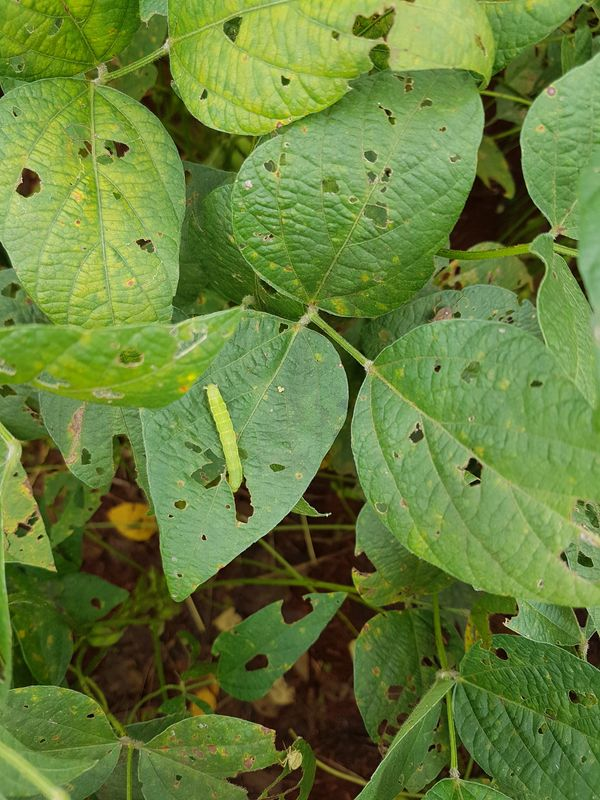Anticarsia_gemmatalis: (180, 373, 272, 501)
Euschistus_heros_adulto: (422, 299, 462, 332)
Euschistus_heros_ninfa: (269, 737, 311, 774)
